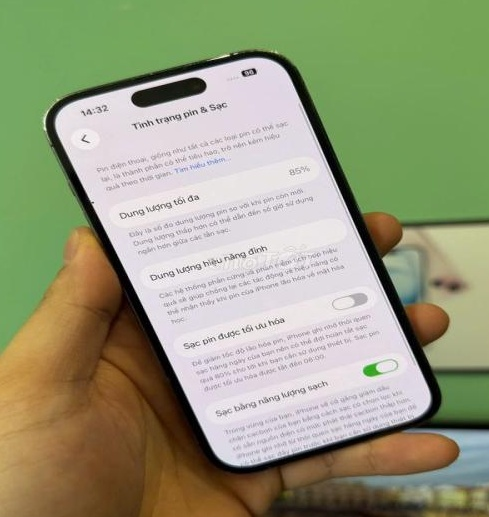screen_defect: (88, 198, 98, 209)
